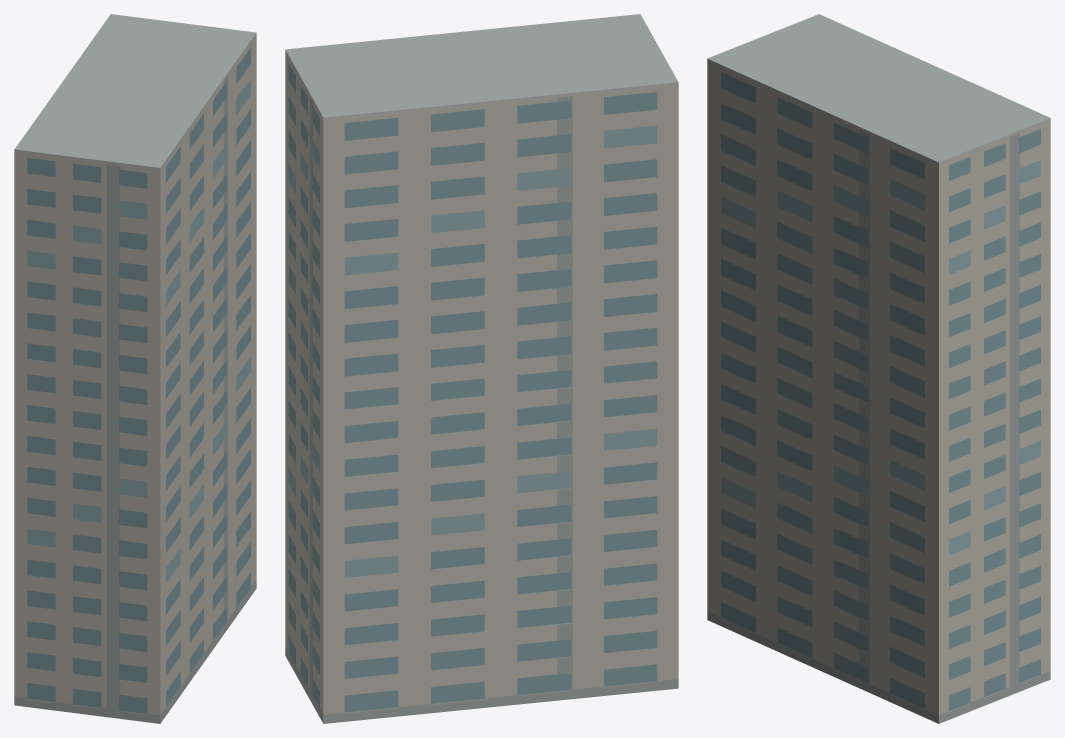
File: residential-bf551c41-0b3a-41a6-ab56-15108ce197b5.glb
3 views of the same model, side by side, from view 1: azimuth 30°, elevation 25°; view 2: azimuth 150°, elevation 25°; view 3: azimuth 270°, elevation 25° (orthographic). The views are drawn at different scales.
Visible parts, largest first — view 1: residential-bf551c41-0b3a-41a6-ab56-15108ce197b5.tmp; view 2: residential-bf551c41-0b3a-41a6-ab56-15108ce197b5.tmp; view 3: residential-bf551c41-0b3a-41a6-ab56-15108ce197b5.tmp.
Part boxes in pixels (x1=…): residential-bf551c41-0b3a-41a6-ab56-15108ce197b5.tmp: x1=14, y1=14, x2=256, y2=723; residential-bf551c41-0b3a-41a6-ab56-15108ce197b5.tmp: x1=285, y1=14, x2=678, y2=723; residential-bf551c41-0b3a-41a6-ab56-15108ce197b5.tmp: x1=707, y1=14, x2=1050, y2=723.
Bounding box in the file's own units: 27.24 × 48 × 26.63.
